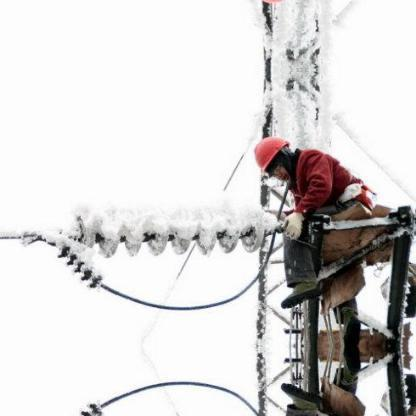helmet: (245, 128, 297, 176)
